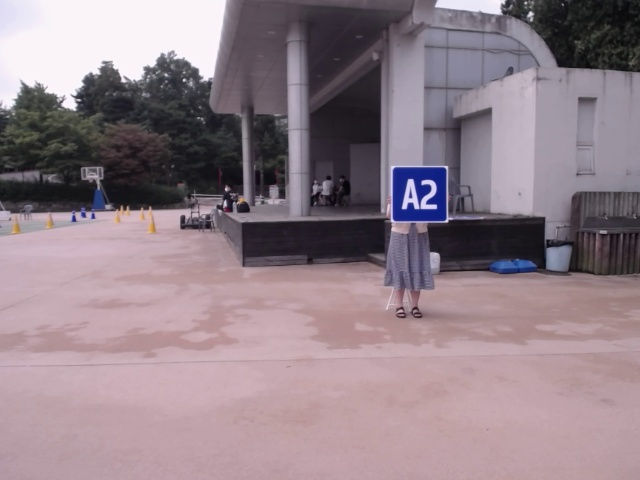delivery_a2: (392, 165, 448, 223)
